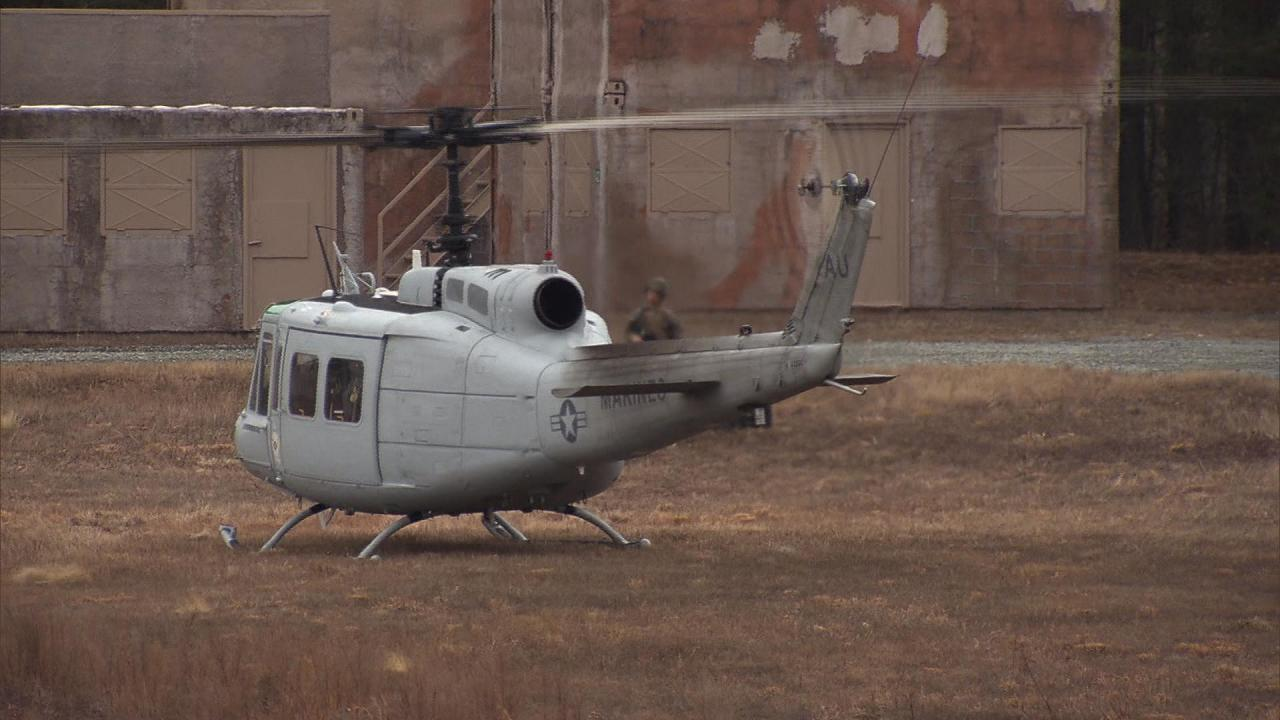Helicopter: (29, 78, 1065, 572)
